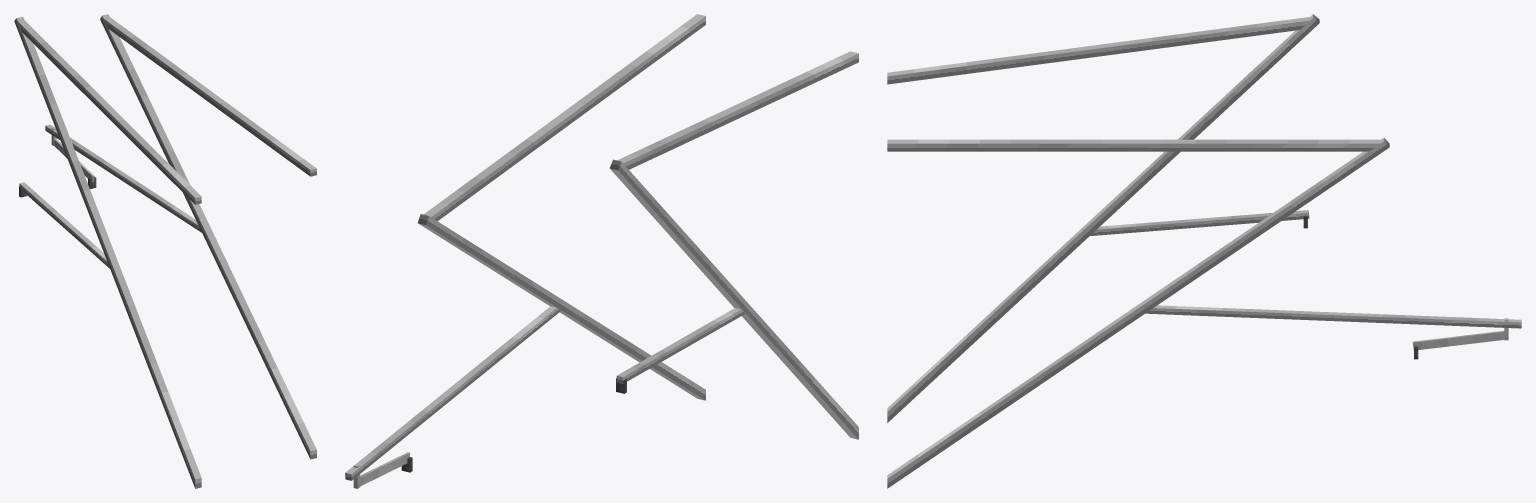
File: cantilever_outer_16px.obj
The picture shows the model from 3 angles, left to right: view 1: azimuth 30°, elevation 25°; view 2: azimuth 150°, elevation 25°; view 3: azimuth 270°, elevation 25°; orthographic projection. The views are drawn at different scales.
Visible parts, largest first — view 1: f0c2321c-0fdf-4a84-b751-ae00bd308e50, bcf427b3-839f-436b-8ac7-01712d19b14b, 538c92c7-3f1c-4396-b251-4540923b57c5, c9acfef7-21e2-43cd-aaf8-5b454299bcc6, ceaf7476-4906-4258-a5cf-53d1382f59b0, 65413573-c3e2-49f1-9752-9b8406dfc168; view 2: f0c2321c-0fdf-4a84-b751-ae00bd308e50, 538c92c7-3f1c-4396-b251-4540923b57c5, bcf427b3-839f-436b-8ac7-01712d19b14b, c9acfef7-21e2-43cd-aaf8-5b454299bcc6, ceaf7476-4906-4258-a5cf-53d1382f59b0, 65413573-c3e2-49f1-9752-9b8406dfc168, 7bd94827-a1b5-4dd0-8201-556a5f545662; view 3: bcf427b3-839f-436b-8ac7-01712d19b14b, f0c2321c-0fdf-4a84-b751-ae00bd308e50, 538c92c7-3f1c-4396-b251-4540923b57c5, c9acfef7-21e2-43cd-aaf8-5b454299bcc6, ceaf7476-4906-4258-a5cf-53d1382f59b0, 65413573-c3e2-49f1-9752-9b8406dfc168, 7bd94827-a1b5-4dd0-8201-556a5f545662.
Part boxes in pixels (x1=…): f0c2321c-0fdf-4a84-b751-ae00bd308e50: x1=14, y1=16, x2=201, y2=488; bcf427b3-839f-436b-8ac7-01712d19b14b: x1=100, y1=14, x2=316, y2=459; 538c92c7-3f1c-4396-b251-4540923b57c5: x1=104, y1=17, x2=316, y2=176; c9acfef7-21e2-43cd-aaf8-5b454299bcc6: x1=18, y1=20, x2=201, y2=204; ceaf7476-4906-4258-a5cf-53d1382f59b0: x1=45, y1=124, x2=201, y2=232; 65413573-c3e2-49f1-9752-9b8406dfc168: x1=19, y1=182, x2=109, y2=268; f0c2321c-0fdf-4a84-b751-ae00bd308e50: x1=609, y1=159, x2=858, y2=439; 538c92c7-3f1c-4396-b251-4540923b57c5: x1=423, y1=14, x2=705, y2=221; bcf427b3-839f-436b-8ac7-01712d19b14b: x1=418, y1=214, x2=705, y2=400; c9acfef7-21e2-43cd-aaf8-5b454299bcc6: x1=617, y1=51, x2=858, y2=169; ceaf7476-4906-4258-a5cf-53d1382f59b0: x1=345, y1=306, x2=561, y2=480; 65413573-c3e2-49f1-9752-9b8406dfc168: x1=616, y1=308, x2=744, y2=383; 7bd94827-a1b5-4dd0-8201-556a5f545662: x1=360, y1=452, x2=410, y2=486; bcf427b3-839f-436b-8ac7-01712d19b14b: x1=887, y1=137, x2=1389, y2=488; f0c2321c-0fdf-4a84-b751-ae00bd308e50: x1=887, y1=14, x2=1319, y2=422; 538c92c7-3f1c-4396-b251-4540923b57c5: x1=887, y1=139, x2=1380, y2=151; c9acfef7-21e2-43cd-aaf8-5b454299bcc6: x1=887, y1=17, x2=1310, y2=84; ceaf7476-4906-4258-a5cf-53d1382f59b0: x1=1145, y1=305, x2=1521, y2=328; 65413573-c3e2-49f1-9752-9b8406dfc168: x1=1090, y1=210, x2=1309, y2=235; 7bd94827-a1b5-4dd0-8201-556a5f545662: x1=1412, y1=330, x2=1504, y2=349.
Bounding box in the file's own units: 1.19 × 3.17 × 4.5.
